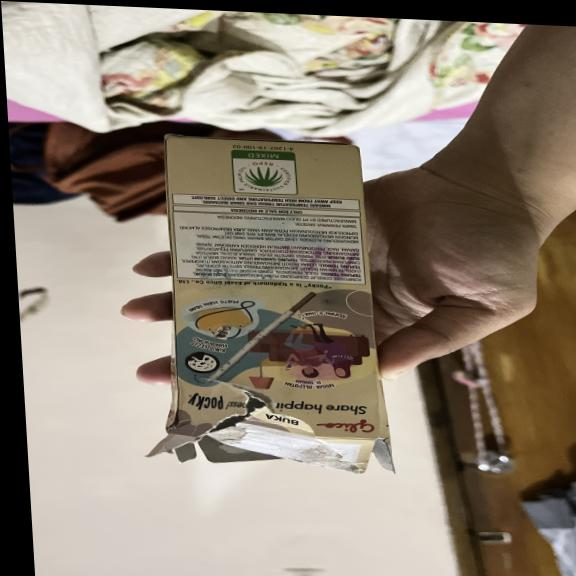Kertas: (162, 133, 390, 439)
